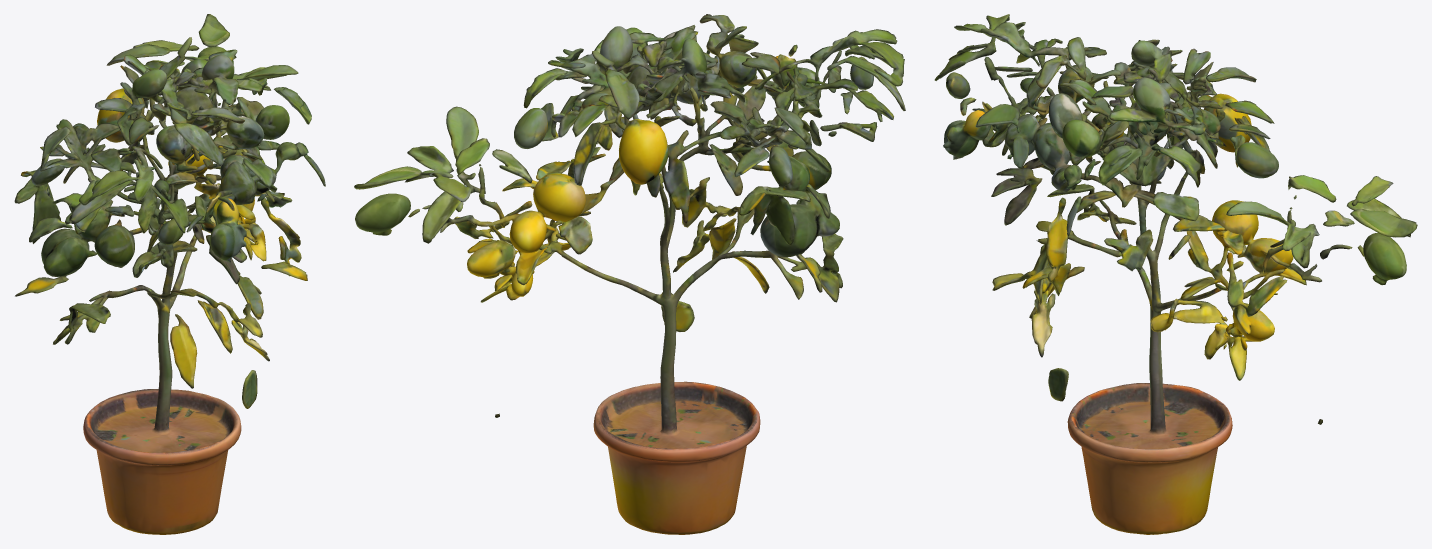
The model's file is tree0024.gltf.
The picture shows the model from 3 angles, left to right: view 1: azimuth 30°, elevation 25°; view 2: azimuth 150°, elevation 25°; view 3: azimuth 270°, elevation 25°; orthographic projection. The views are drawn at different scales.
Parts seen in each view (by area): view 1: Mesh_0; view 2: Mesh_0; view 3: Mesh_0.
Part boxes in pixels (bbox=[...]): Mesh_0: bbox=[14, 14, 325, 534]; Mesh_0: bbox=[354, 14, 905, 534]; Mesh_0: bbox=[934, 14, 1417, 534].
Bounding box in the file's own units: 1.62 × 2 × 1.88.
Materials: 1 (1 with a texture image).
